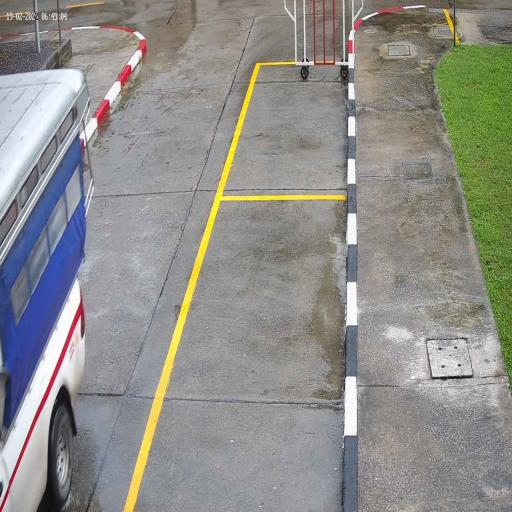car: (0, 66, 99, 512)
